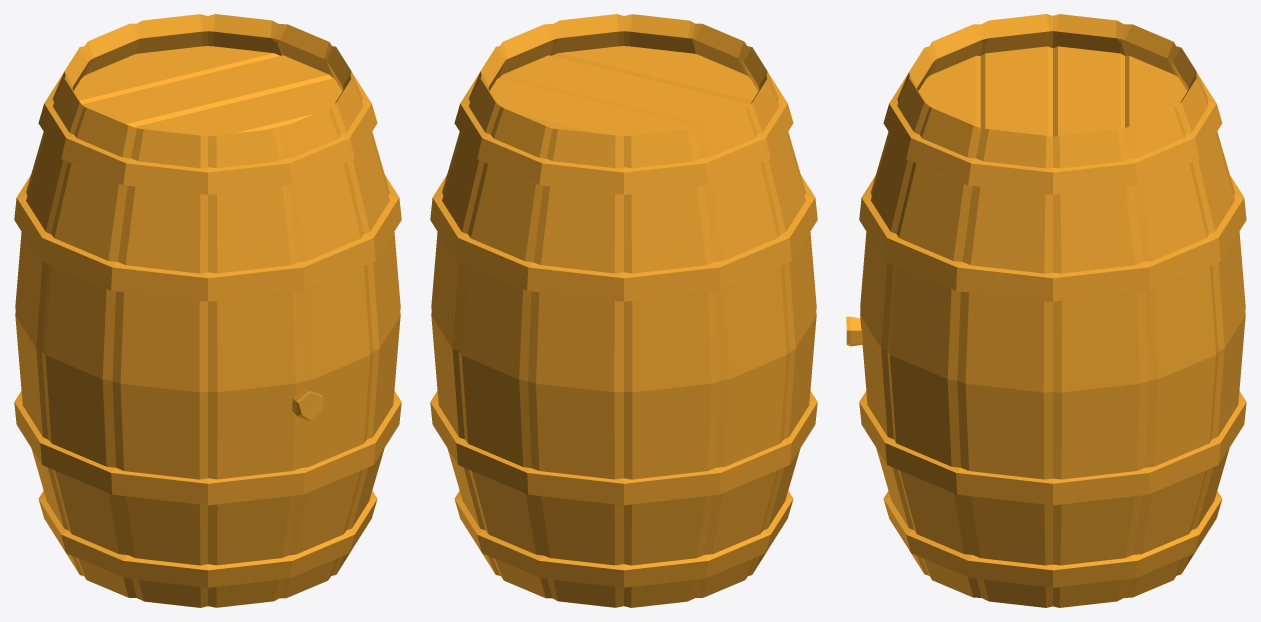
File: SM_Barrel_Wood_Closed.fbx
3 renders of one model, left to right at view 1: azimuth 30°, elevation 25°; view 2: azimuth 150°, elevation 25°; view 3: azimuth 270°, elevation 25°, orthographic.
Visible parts, largest first — view 1: barrel-wood-closed; view 2: barrel-wood-closed; view 3: barrel-wood-closed.
Part boxes in pixels (x1,y1,x2,y2): barrel-wood-closed: [14, 14, 401, 607]; barrel-wood-closed: [430, 14, 817, 607]; barrel-wood-closed: [846, 14, 1246, 607].
Bounding box in the file's own units: 0.8921 × 1.2 × 0.9218.
